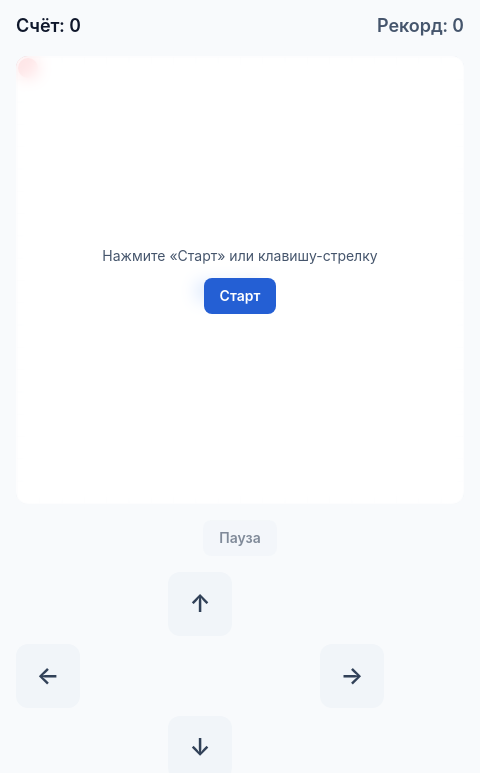
Test: SnakeGame › pauses by itself when the tab is hidden
Click the button "Старт" at (240, 296), box [204,278,276,314]
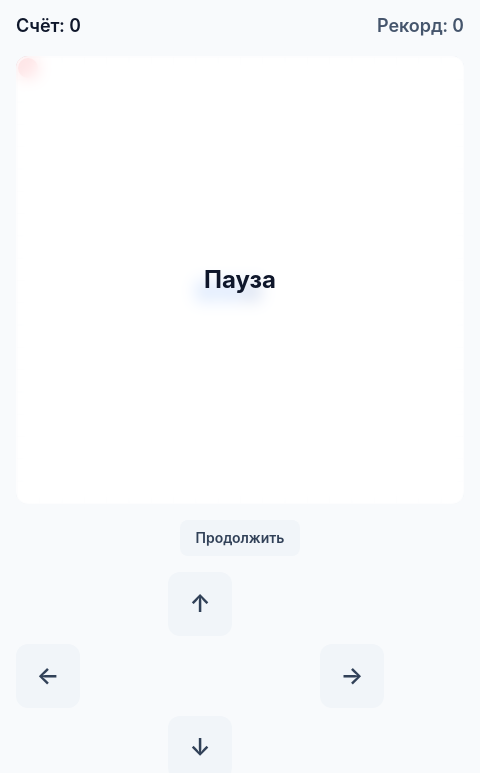
Expected: the button "Продолжить" is shown, [180,520,300,556]
